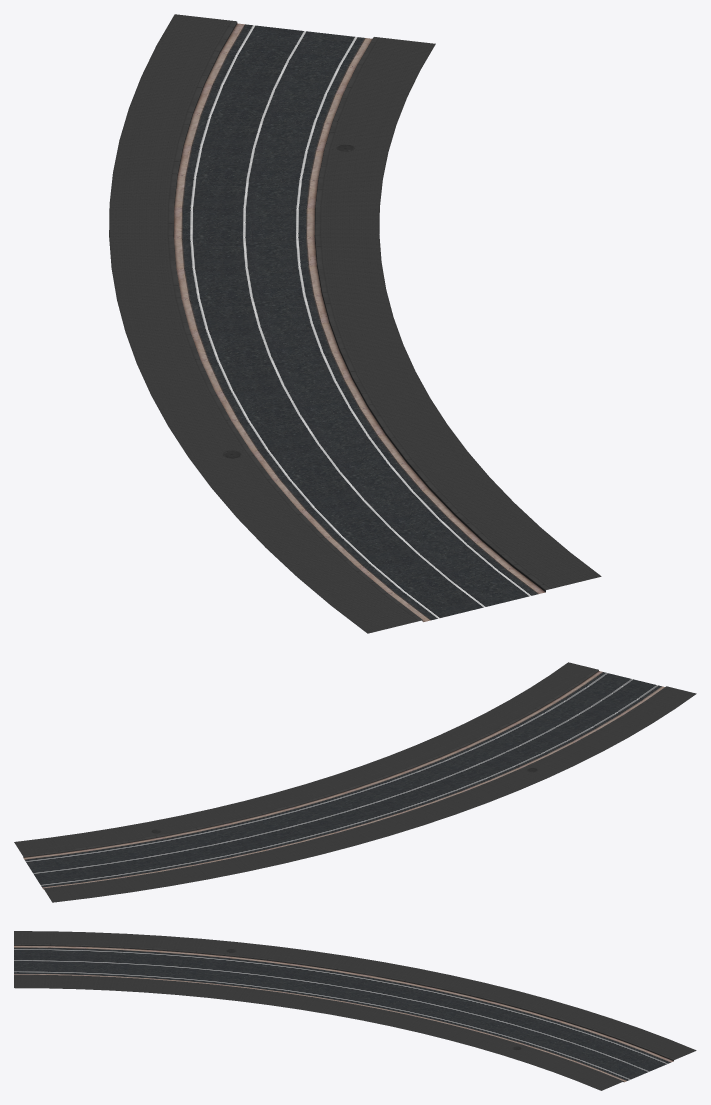
Rendered from or_city_road_cont_marking_45right.fbx.
The picture shows the model from 3 angles, top to bottom: view 1: azimuth 30°, elevation 25°; view 2: azimuth 150°, elevation 25°; view 3: azimuth 270°, elevation 25°; orthographic projection. The views are drawn at different scales.
Parts seen in each view (by area): view 1: obj0; view 2: obj0; view 3: obj0.
Boxes of the visible parts, bbox=[...] form: obj0: bbox=[109, 14, 601, 633]; obj0: bbox=[14, 662, 696, 902]; obj0: bbox=[14, 931, 696, 1090].
Size of the model in its own units: 81.77 by 0.254 by 148.
